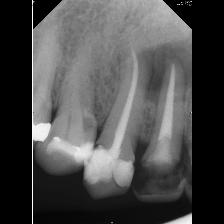apical_lesion: (131, 33, 194, 205)
